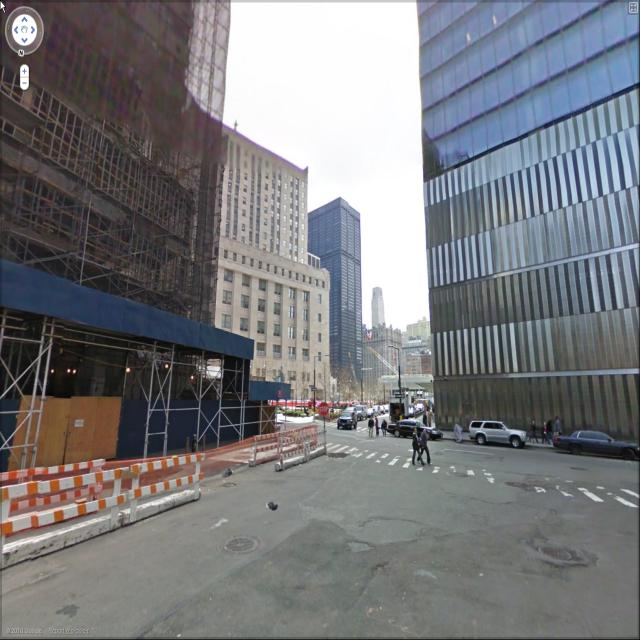b_1: (2, 4, 255, 402), (416, 3, 637, 445), (208, 124, 334, 403), (304, 200, 372, 394)
